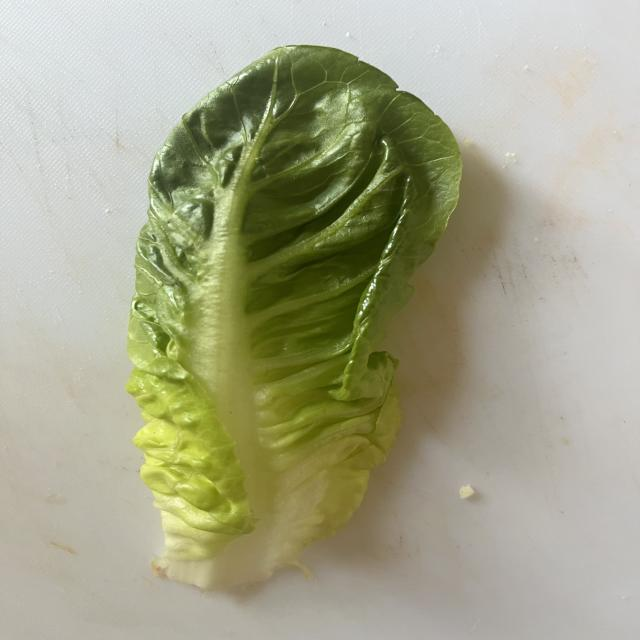lettuce: (127, 45, 462, 590)
